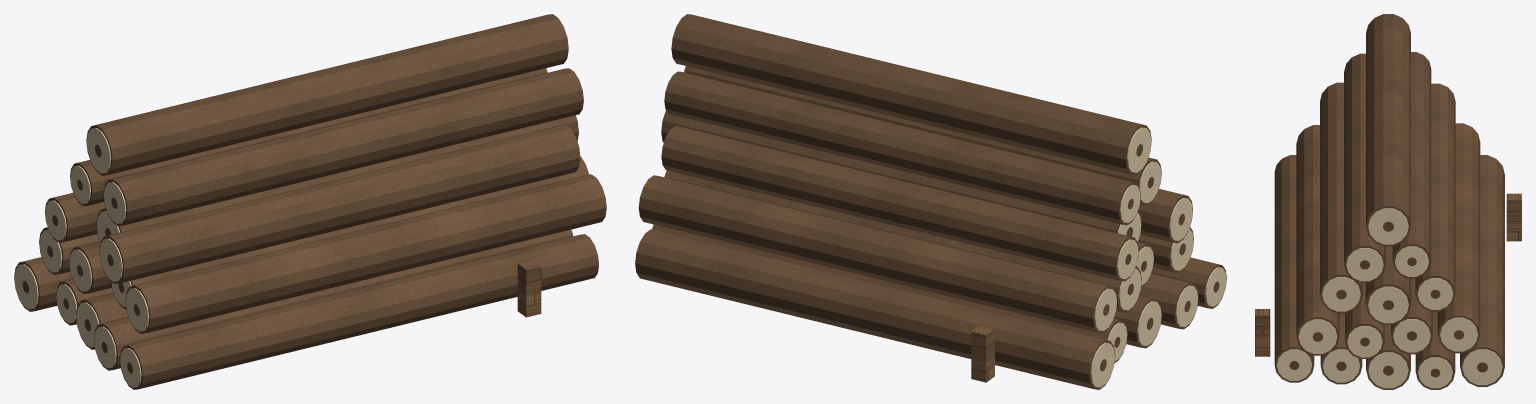
The model's file is log_pile.glb.
3 views of the same model, side by side, from view 1: azimuth 30°, elevation 25°; view 2: azimuth 150°, elevation 25°; view 3: azimuth 270°, elevation 25° (orthographic). The views are drawn at different scales.
Parts seen in each view (by area): view 1: log_pile_bark, log_pile_log_end, log_pile_post; view 2: log_pile_bark, log_pile_log_end, log_pile_post; view 3: log_pile_bark, log_pile_log_end, log_pile_post.
Boxes of the visible parts, bbox=[...] form: log_pile_bark: bbox=[14, 14, 606, 389]; log_pile_log_end: bbox=[14, 128, 149, 387]; log_pile_post: bbox=[517, 259, 541, 317]; log_pile_bark: bbox=[635, 14, 1226, 389]; log_pile_log_end: bbox=[1090, 127, 1226, 387]; log_pile_post: bbox=[971, 325, 994, 382]; log_pile_bark: bbox=[1274, 14, 1504, 389]; log_pile_log_end: bbox=[1276, 208, 1502, 388]; log_pile_post: bbox=[1255, 193, 1521, 356].
Size of the model in its own units: 6.46 by 2.75 by 3.52.
Materials: 3 (2 with a texture image).
